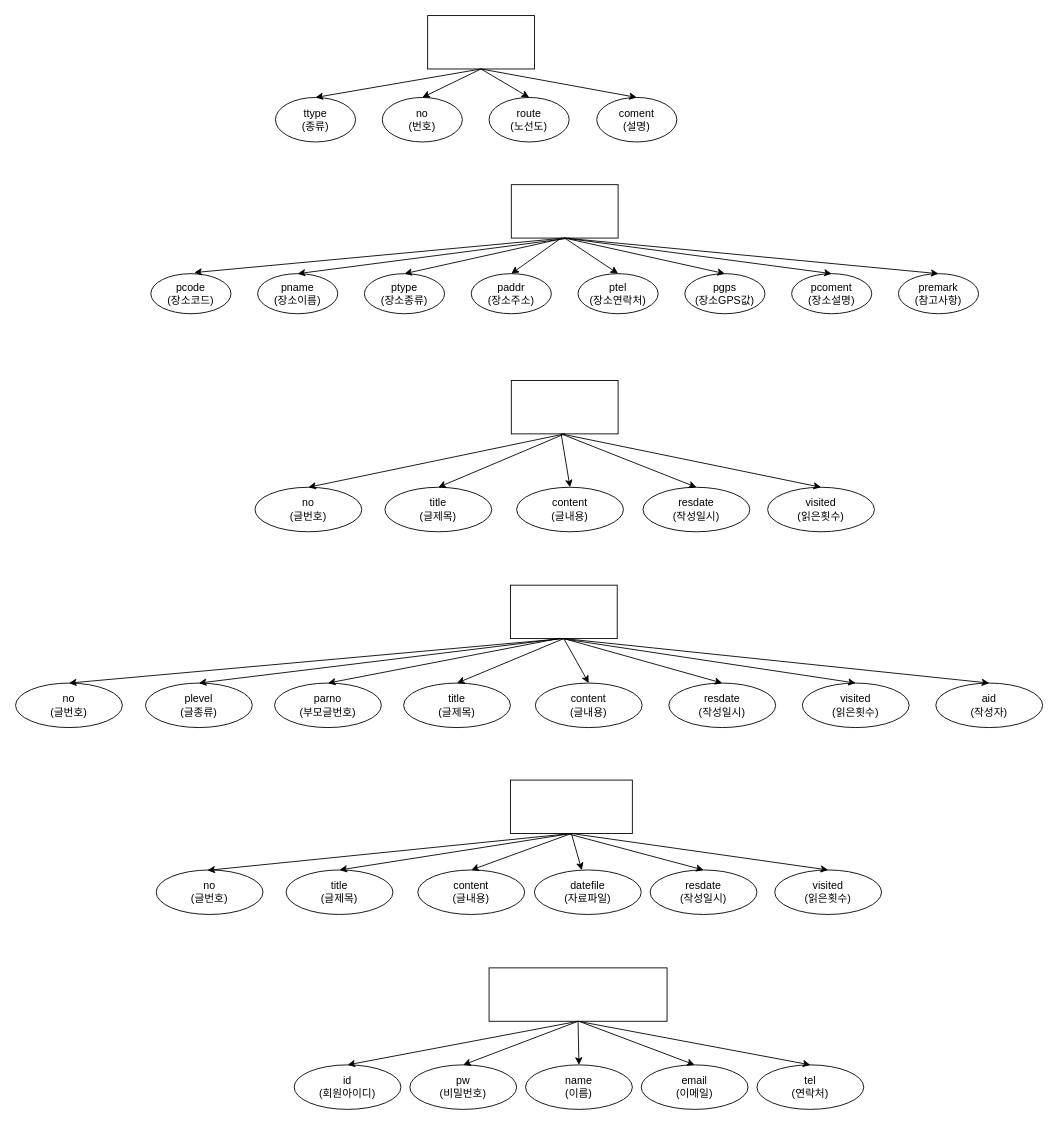
Some shapes in this 1058 by 1125 pixel diagram are drawn without their labels. The centre of each missing label's shape, as x and y in pixels:
"data (자료실)" goes at point (571, 806).
"guide (안내사항)" goes at point (564, 211).
"member (회원)" goes at point (577, 994).
"notice (공지사항)" goes at point (564, 407).
"qna (묻고 답하기)" goes at point (563, 611).
"traffic (교통편)" goes at point (480, 42).
